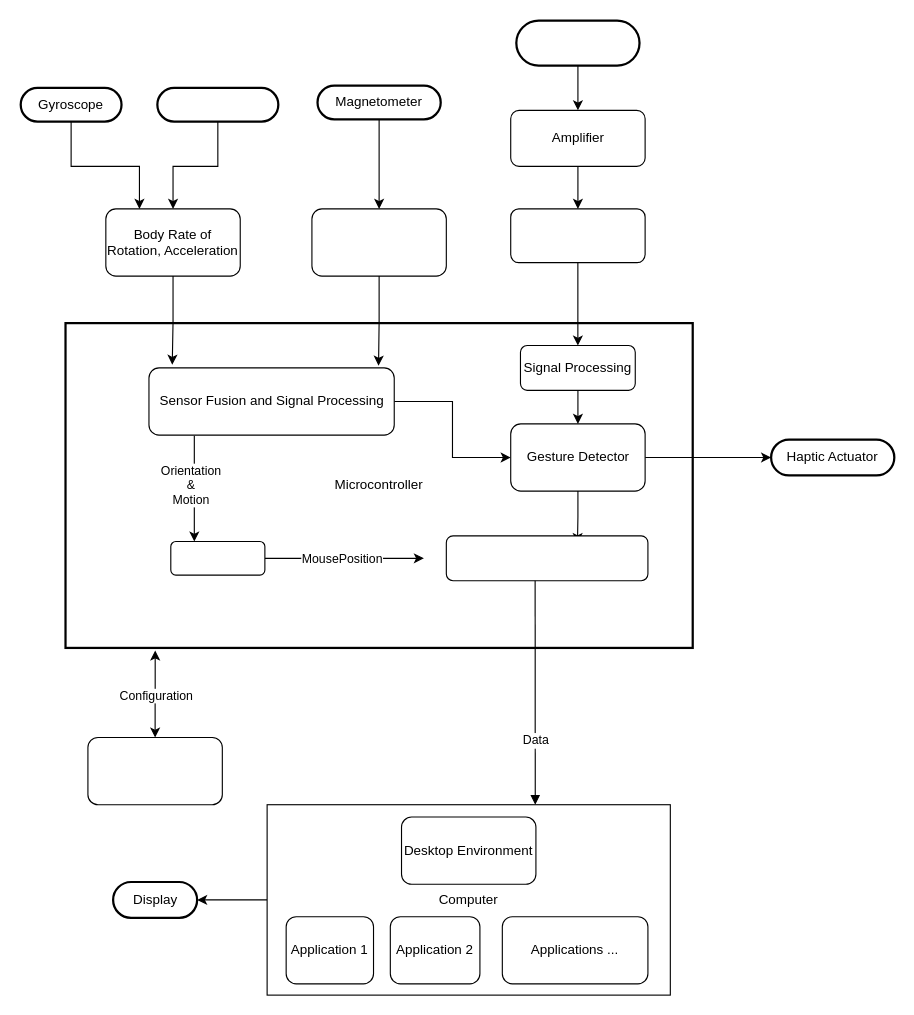
Some shapes in this 914 by 1015 pixel diagram are drawn without their labels. The centre of each missing label's shape, as x and y in pixels:
Accelerometer: [217,104]
Application: [154,770]
Magnetic Inclination: [378,242]
Piezoelectric Transducer: [577,42]
Position Mapping: [217,557]
Vibration: [577,235]
Wireless Communication: [546,558]
